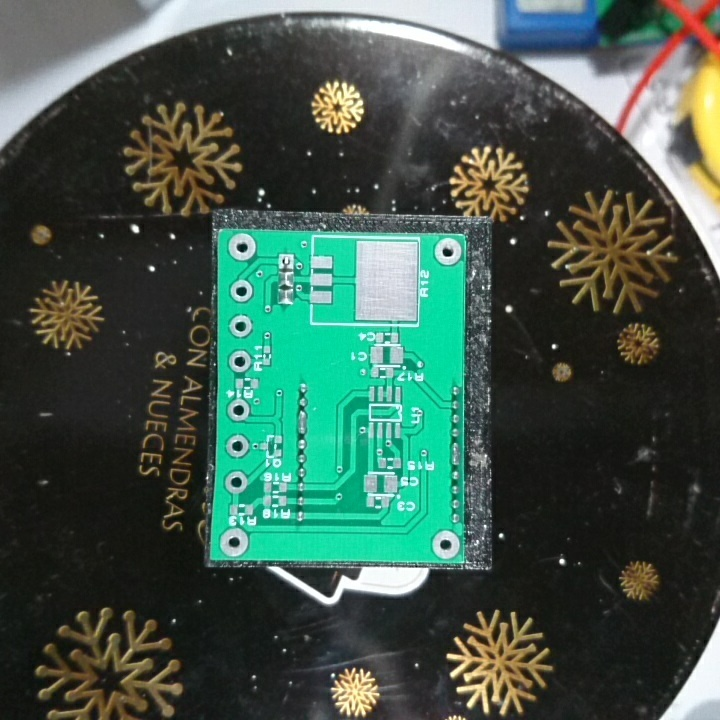F: (216, 521, 255, 560), (224, 229, 262, 266), (430, 526, 462, 564), (433, 235, 463, 267), (226, 311, 256, 341), (224, 395, 254, 425), (221, 468, 251, 498), (222, 432, 250, 461), (225, 346, 254, 373), (227, 278, 254, 306), (276, 251, 295, 270)
P: (295, 406, 312, 439), (449, 439, 463, 469)
